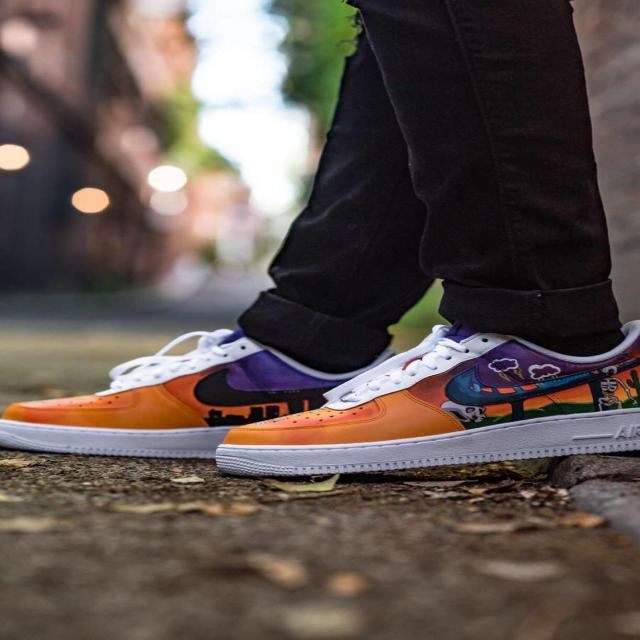shoes: (345, 274, 640, 529), (0, 301, 303, 455)
